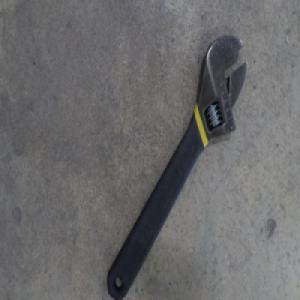AdjustableWrench: (106, 35, 247, 297)
